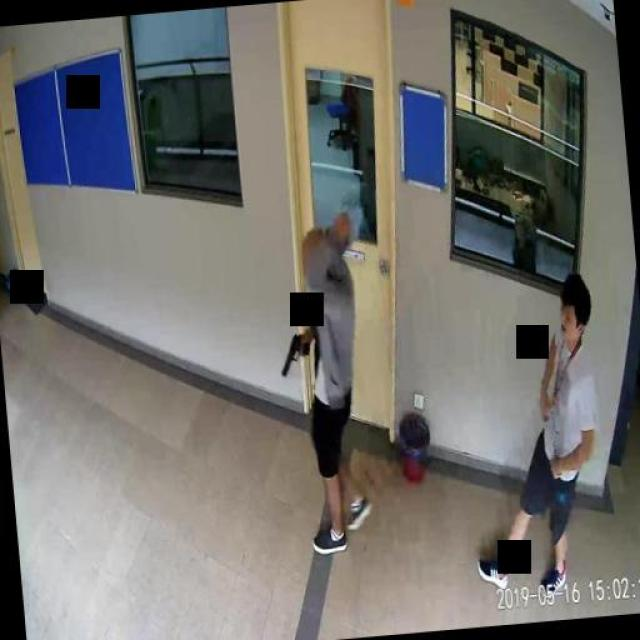gun: (278, 332, 310, 376)
